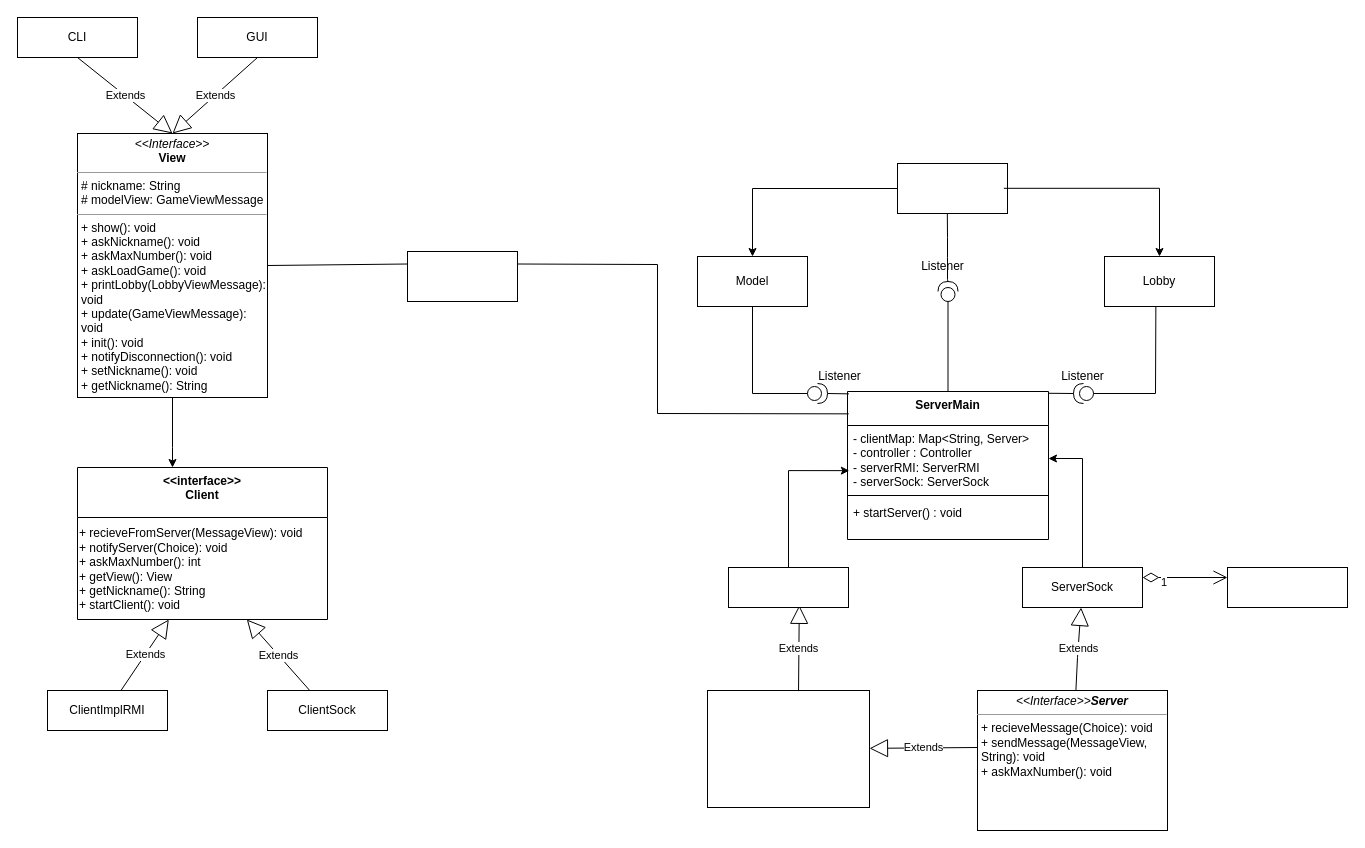
This 1365x848 diagram has some shape labels left out. Each missing label, with the centre of its shape:
"<<Interface>> ServerRMI + register(Client): void" goes at (x=788, y=749).
"Controller" goes at (x=952, y=188).
"Network" goes at (x=462, y=276).
"Server" goes at (x=1287, y=587).
"ServerImplRMI" goes at (x=788, y=587).
